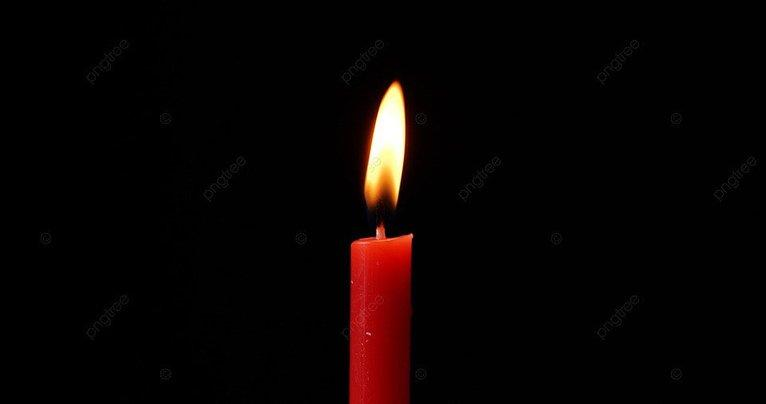Fire: (361, 78, 414, 219)
